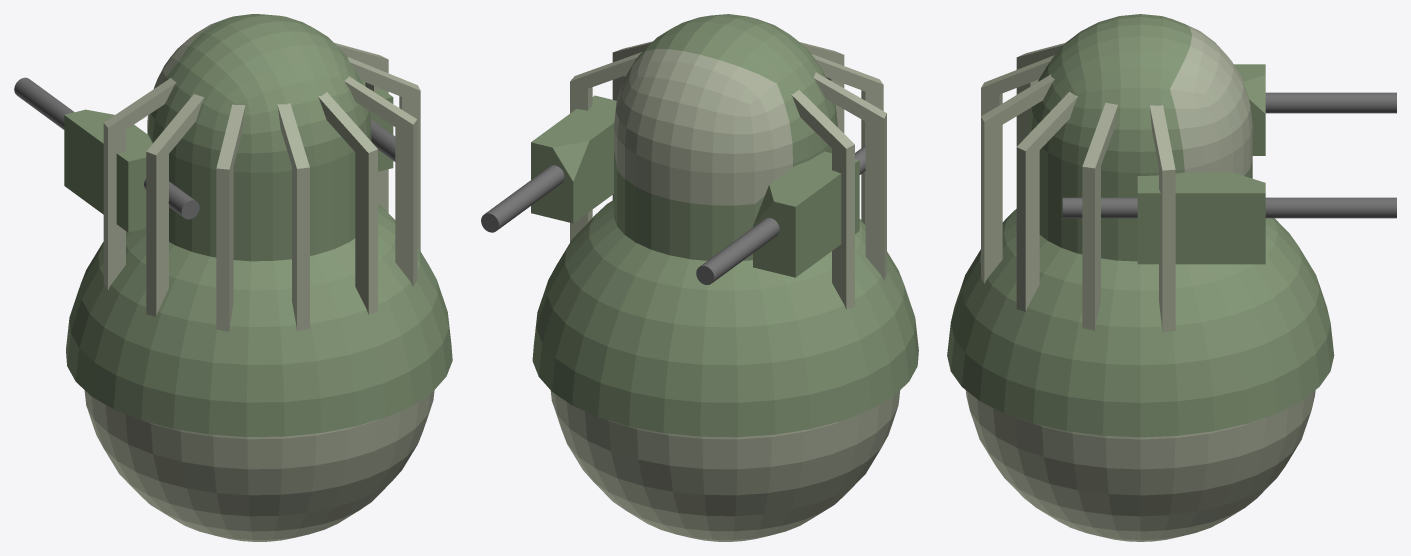
Rendered from SmallMechExport2.fbx.
3 renders of one model, left to right at view 1: azimuth 30°, elevation 25°; view 2: azimuth 150°, elevation 25°; view 3: azimuth 270°, elevation 25°, orthographic.
Visible parts, largest first — view 1: LightMechV2_Body[OverlayVisible], Guns[BaseVisible], CockpitCover[BaseVisible]; view 2: LightMechV2_Body[OverlayVisible], CockpitCover[BaseVisible], Guns[BaseVisible]; view 3: LightMechV2_Body[OverlayVisible], Guns[BaseVisible], CockpitCover[BaseVisible].
Part boxes in pixels (left/top/right/bottom): LightMechV2_Body[OverlayVisible]: left=66, top=14, right=452, bottom=541; Guns[BaseVisible]: left=14, top=77, right=395, bottom=232; CockpitCover[BaseVisible]: left=147, top=17, right=230, bottom=134; LightMechV2_Body[OverlayVisible]: left=532, top=14, right=918, bottom=541; CockpitCover[BaseVisible]: left=614, top=49, right=792, bottom=205; Guns[BaseVisible]: left=481, top=95, right=865, bottom=284; LightMechV2_Body[OverlayVisible]: left=947, top=14, right=1334, bottom=541; Guns[BaseVisible]: left=1062, top=64, right=1396, bottom=264; CockpitCover[BaseVisible]: left=1170, top=24, right=1252, bottom=175.
Bounding box in the file's own units: 577 × 824 × 671.
